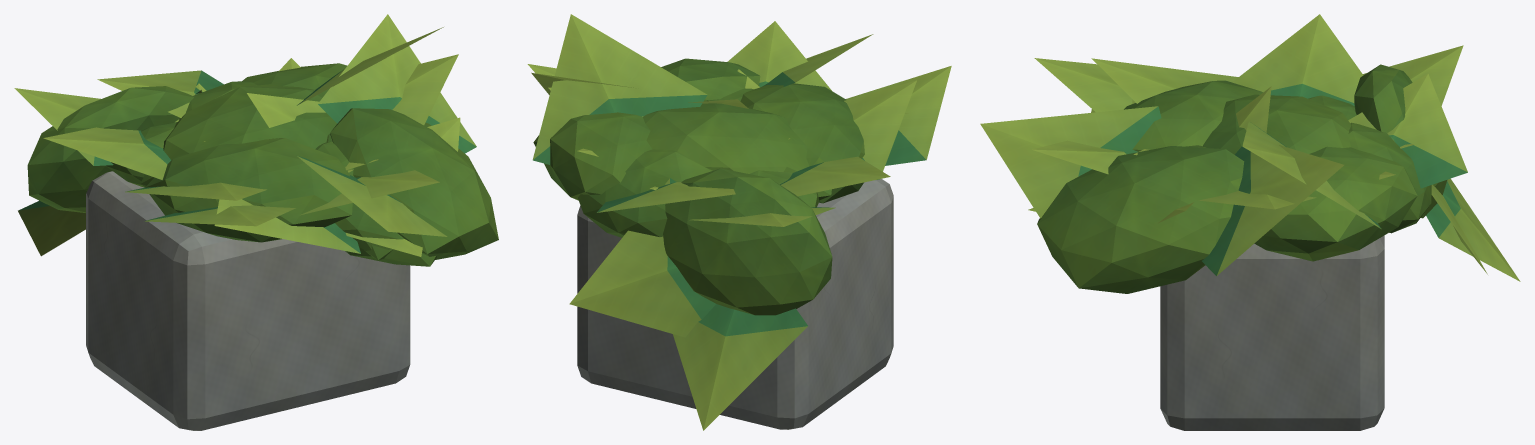
File: forest_stone_block.glb
3 views of the same model, side by side, from view 1: azimuth 30°, elevation 25°; view 2: azimuth 150°, elevation 25°; view 3: azimuth 270°, elevation 25° (orthographic). The views are drawn at different scales.
Parts seen in each view (by area): view 1: Forest bridge dressed stone, Woodland shared moss cushion.100, Woodland shared moss cushion.099, Woodland shared moss cushion.108, Woodland shared moss cushion.103, Woodland shared curved ivy leaf.233, Woodland shared curved ivy leaf.240, Woodland shared curved ivy leaf.234, Woodland shared moss cushion.104, Woodland shared curved ivy leaf.241, Woodland shared curved ivy leaf.229, Woodland shared curved ivy leaf.250 (+12 smaller); view 2: Forest bridge dressed stone, Woodland shared moss cushion.108, Woodland shared curved ivy leaf.238, Woodland shared curved ivy leaf.250, Woodland shared moss cushion.103, Woodland shared curved ivy leaf.249, Woodland shared moss cushion.101, Woodland shared moss cushion.099, Woodland shared moss cushion.102, Woodland shared curved ivy leaf.232, Woodland shared curved ivy leaf.247, Woodland shared curved ivy leaf.243 (+7 smaller); view 3: Forest bridge dressed stone, Woodland shared moss cushion.100, Woodland shared moss cushion.101, Woodland shared curved ivy leaf.234, Woodland shared curved ivy leaf.240, Woodland shared curved ivy leaf.233, Woodland shared moss cushion.103, Woodland shared curved ivy leaf.236, Woodland shared moss cushion.099, Woodland shared moss cushion.108, Woodland shared curved ivy leaf.250, Woodland shared curved ivy leaf.247 (+8 smaller).
Part boxes in pixels (x1,y1,x2,y2): Forest bridge dressed stone: [86, 171, 410, 430]; Woodland shared moss cushion.100: [330, 108, 498, 259]; Woodland shared moss cushion.099: [145, 138, 352, 242]; Woodland shared moss cushion.108: [27, 86, 193, 212]; Woodland shared moss cushion.103: [163, 84, 336, 159]; Woodland shared curved ivy leaf.233: [318, 14, 476, 153]; Woodland shared curved ivy leaf.240: [43, 127, 171, 179]; Woodland shared curved ivy leaf.234: [297, 156, 447, 236]; Woodland shared moss cushion.104: [315, 141, 436, 266]; Woodland shared curved ivy leaf.241: [214, 199, 360, 253]; Woodland shared curved ivy leaf.229: [392, 54, 458, 125]; Woodland shared curved ivy leaf.250: [18, 200, 85, 256]; Forest bridge dressed stone: [577, 179, 893, 429]; Woodland shared moss cushion.108: [663, 168, 832, 315]; Woodland shared curved ivy leaf.238: [532, 14, 707, 164]; Woodland shared curved ivy leaf.250: [673, 304, 807, 430]; Woodland shared moss cushion.103: [643, 103, 809, 173]; Woodland shared curved ivy leaf.249: [569, 178, 715, 337]; Woodland shared moss cushion.101: [533, 112, 652, 200]; Woodland shared moss cushion.099: [740, 83, 864, 203]; Woodland shared moss cushion.102: [578, 149, 712, 237]; Woodland shared curved ivy leaf.232: [845, 66, 951, 165]; Woodland shared curved ivy leaf.247: [844, 80, 916, 179]; Woodland shared curved ivy leaf.243: [727, 21, 831, 90]; Forest bridge dressed stone: [1160, 235, 1384, 430]; Woodland shared moss cushion.100: [1037, 146, 1244, 293]; Woodland shared moss cushion.101: [1254, 146, 1417, 261]; Woodland shared curved ivy leaf.234: [980, 106, 1161, 218]; Woodland shared curved ivy leaf.240: [1232, 14, 1363, 106]; Woodland shared curved ivy leaf.233: [1202, 145, 1343, 275]; Woodland shared moss cushion.103: [1203, 94, 1351, 154]; Woodland shared curved ivy leaf.236: [1348, 74, 1467, 188]; Woodland shared moss cushion.099: [1124, 80, 1262, 151]; Woodland shared moss cushion.108: [1354, 64, 1447, 218]; Woodland shared curved ivy leaf.250: [1426, 178, 1520, 281]; Woodland shared curved ivy leaf.247: [1091, 58, 1238, 103].
Size of the model in its own units: 0.5041 by 0.386 by 0.5781.
4 materials, 4 textured.
